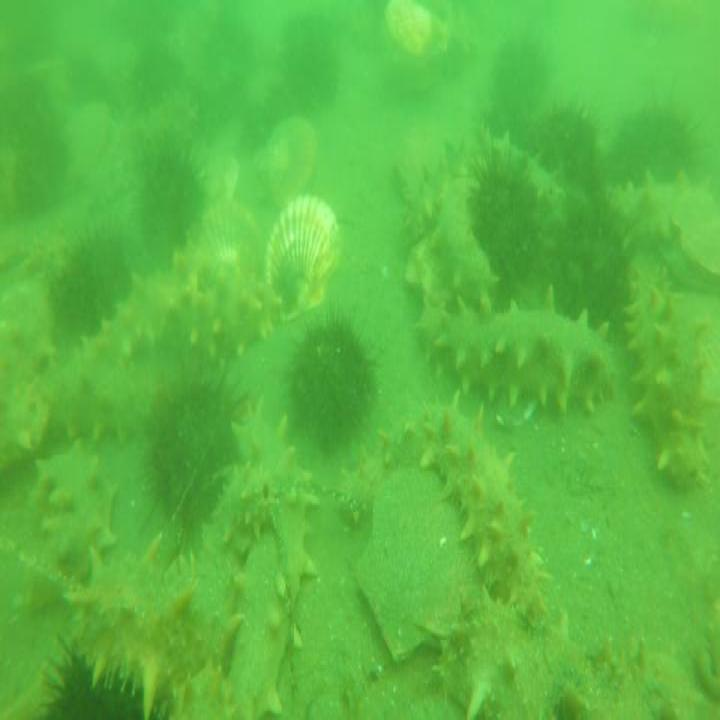echinus: (281, 313, 380, 462), (37, 627, 160, 720), (549, 190, 630, 331), (46, 224, 134, 345), (127, 128, 205, 258), (610, 92, 710, 190), (470, 163, 541, 297), (528, 98, 603, 186), (281, 14, 342, 117), (11, 114, 73, 213), (490, 30, 551, 110), (124, 37, 183, 112), (481, 82, 538, 149), (238, 78, 291, 150), (63, 50, 108, 110)
holothurian: (390, 393, 550, 624), (427, 585, 690, 720), (155, 464, 281, 720), (418, 284, 621, 428), (225, 397, 314, 716), (72, 537, 209, 711), (534, 286, 617, 539), (626, 249, 710, 491), (59, 255, 182, 413), (27, 441, 119, 579), (0, 270, 55, 464), (460, 114, 557, 217), (185, 252, 276, 352), (436, 173, 497, 311), (403, 134, 473, 244), (621, 164, 686, 242)
scallop: (356, 459, 492, 661), (268, 190, 341, 310), (668, 278, 720, 413), (255, 112, 321, 217), (667, 178, 720, 300), (194, 199, 266, 288), (379, 0, 456, 68), (62, 92, 112, 188), (192, 149, 242, 208)
